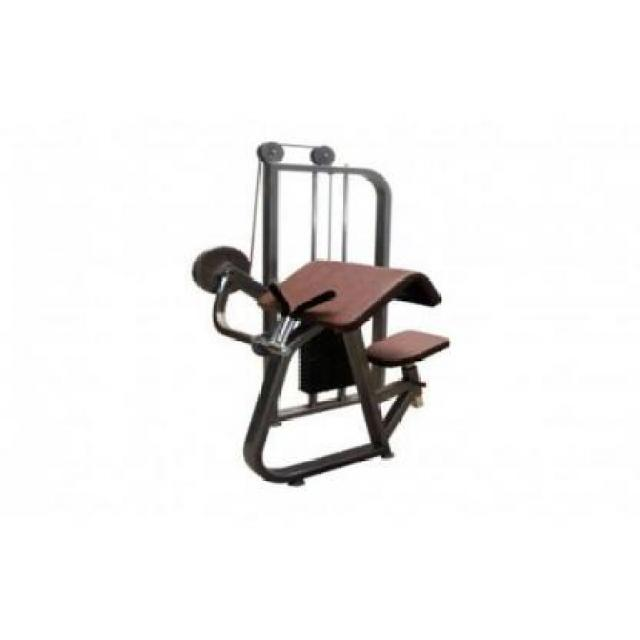arm curl machine: (194, 138, 451, 490)
